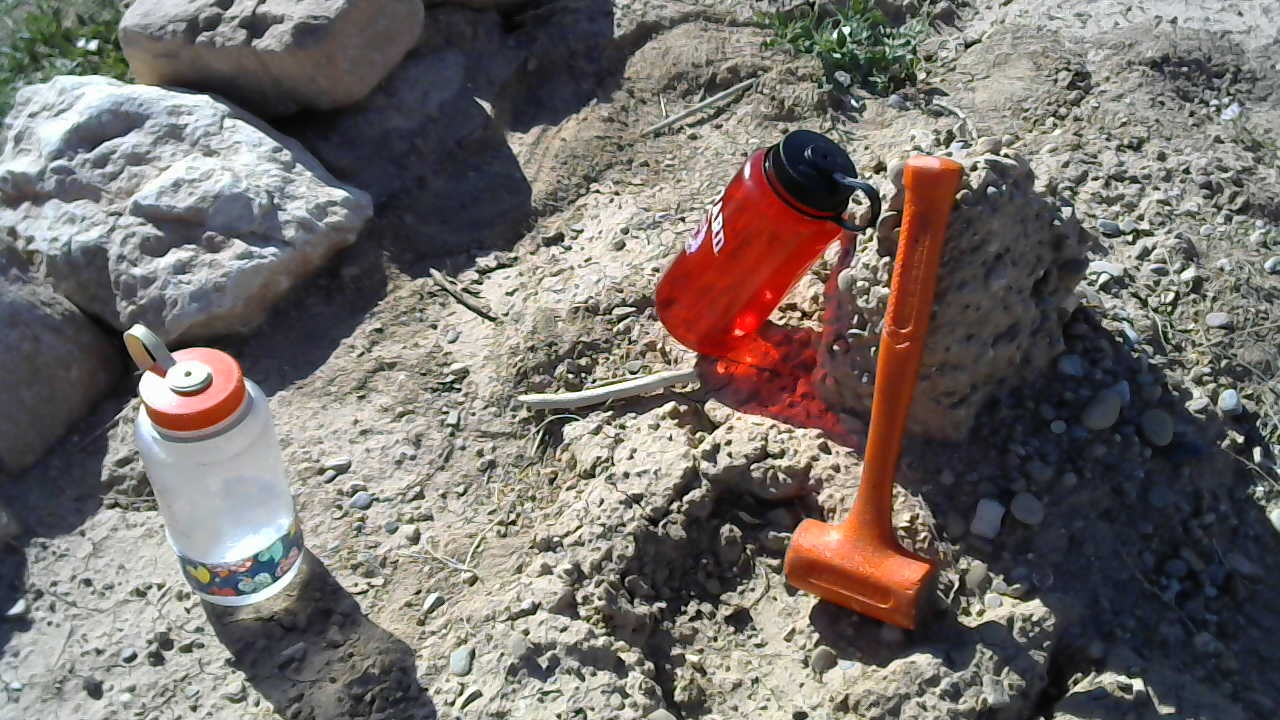bottle: (119, 322, 309, 605), (654, 128, 882, 359), (753, 382, 759, 385)
hammer: (782, 154, 967, 638)
